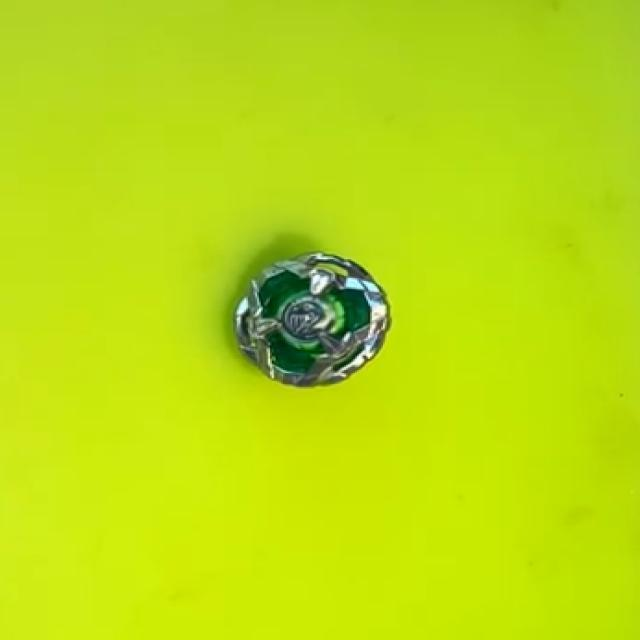Beyblade: (235, 252, 393, 388)
